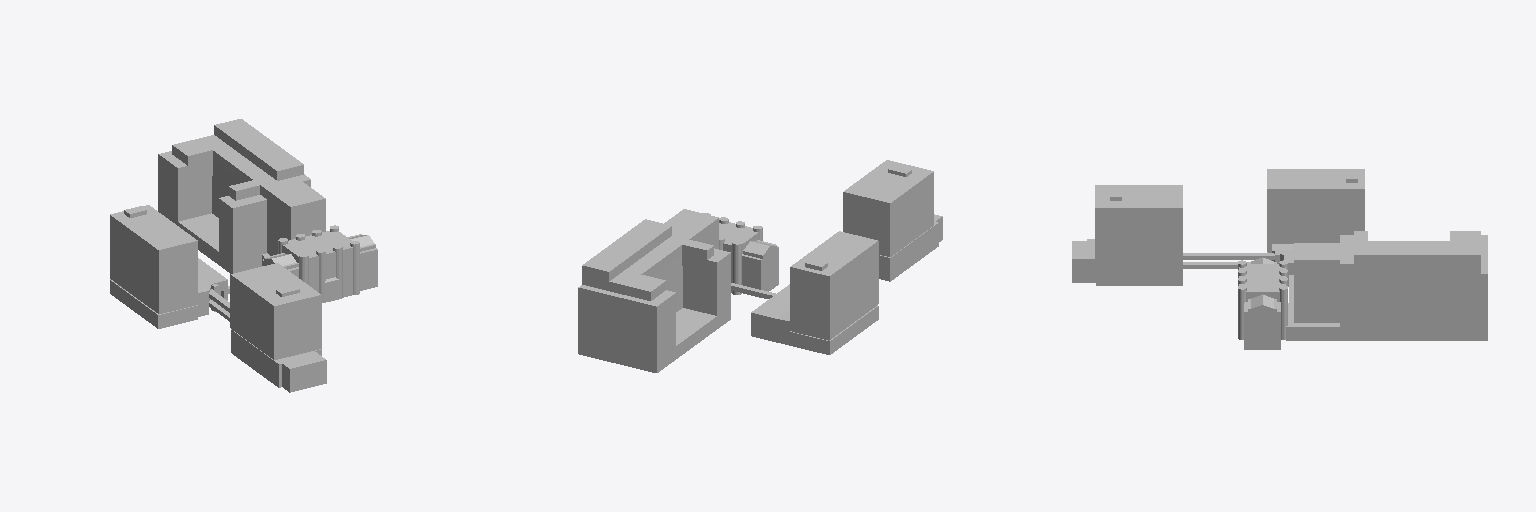
File: hunterminiature.obj
3 renders of one model, left to right at view 1: azimuth 30°, elevation 25°; view 2: azimuth 150°, elevation 25°; view 3: azimuth 270°, elevation 25°, orthographic.
Visible parts, largest first — view 1: HunterModelHandle HunterNorth, HunterEast HunterModelHandle, HunterModelHandle HunterWest; view 2: HunterModelHandle HunterNorth, HunterModelHandle HunterWest, HunterEast HunterModelHandle; view 3: HunterModelHandle HunterNorth, HunterEast HunterModelHandle, HunterModelHandle HunterWest.
Boxes of the visible parts, x1,y1,x2,y2 form: HunterModelHandle HunterNorth: [158, 119, 377, 302]; HunterEast HunterModelHandle: [209, 263, 326, 392]; HunterModelHandle HunterWest: [110, 205, 229, 328]; HunterModelHandle HunterNorth: [578, 209, 778, 372]; HunterModelHandle HunterWest: [731, 231, 878, 354]; HunterEast HunterModelHandle: [843, 160, 942, 281]; HunterModelHandle HunterNorth: [1239, 231, 1487, 349]; HunterEast HunterModelHandle: [1072, 185, 1279, 285]; HunterModelHandle HunterWest: [1267, 169, 1364, 302].
Bounding box in the file's own units: 47.73 × 18.92 × 82.75.